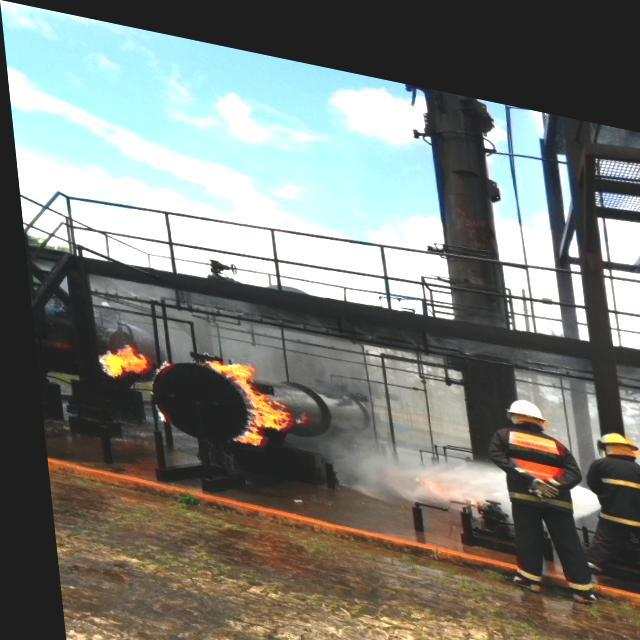Fire: (198, 344, 290, 448), (88, 334, 144, 382)
